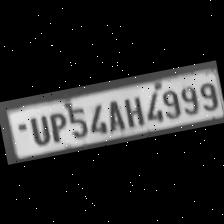4: (84, 99, 109, 136), (140, 88, 164, 124)
5: (62, 102, 90, 140)
9: (194, 76, 220, 113), (156, 84, 182, 120), (176, 80, 202, 116)
A: (102, 96, 126, 132)
H: (120, 91, 146, 127)
P: (44, 108, 69, 144)
U: (24, 112, 52, 148)
